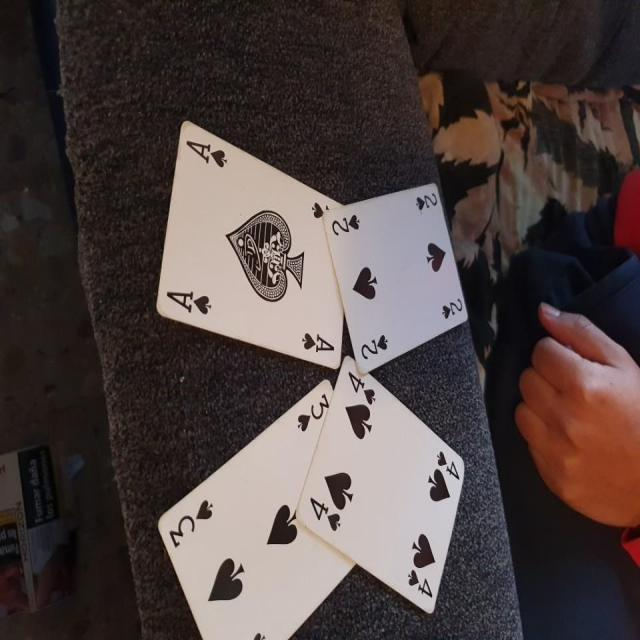2 Spades: (319, 171, 478, 382)
3 Spades: (146, 370, 332, 640)
4 Spades: (295, 352, 476, 609)
A Spades: (161, 108, 348, 366)
